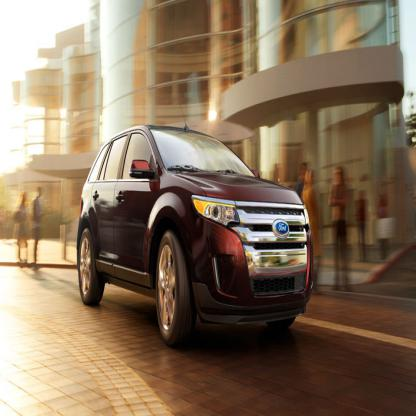Vehicle: (77, 126, 316, 348)
